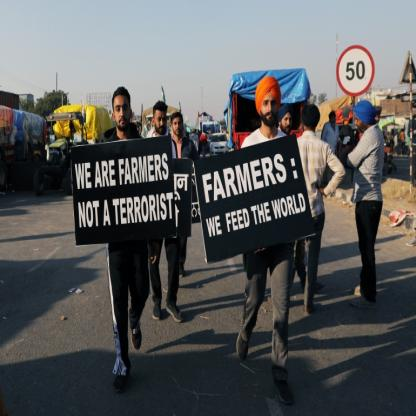BANNER: (195, 135, 316, 263), (71, 136, 177, 244)
